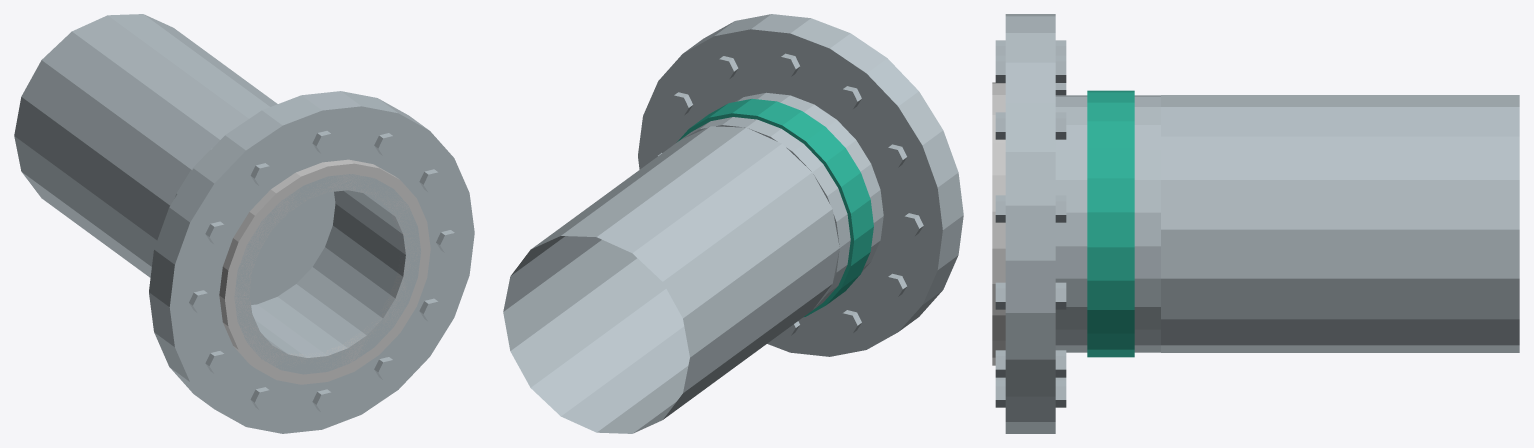
Rendered from cell_68.obj.
The picture shows the model from 3 angles, left to right: view 1: azimuth 30°, elevation 25°; view 2: azimuth 150°, elevation 25°; view 3: azimuth 270°, elevation 25°; orthographic projection. The views are drawn at different scales.
Bounding box in the file's own units: 0.8 × 0.8 × 1.
